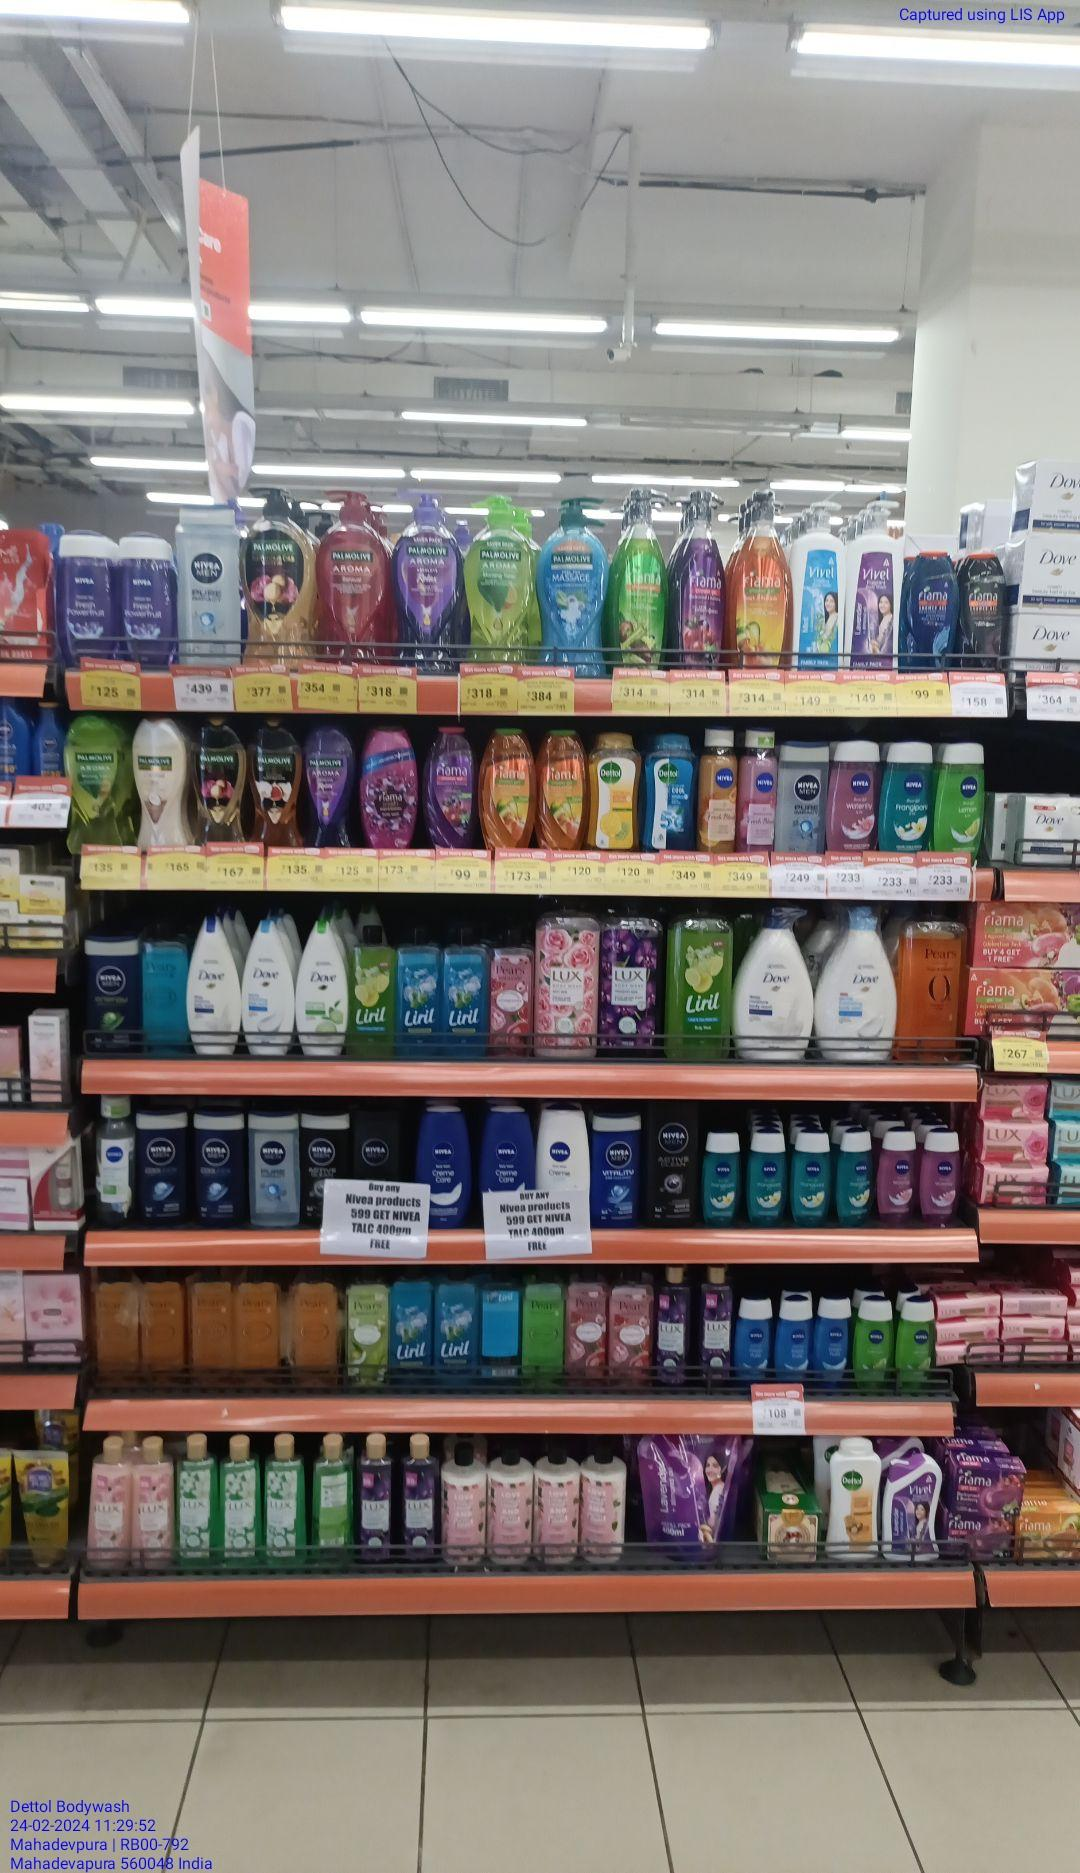Dettol_Bodywash_Cool: (644, 736, 699, 852)
Dettol_Bodywash_Refresh: (590, 732, 639, 850)
Dettol_Nourish_Body_Wash_250ML: (827, 1439, 878, 1560)
Dove_Deep_Moisture_Body_Wash_250ML: (186, 916, 240, 1055)
Dove_Gentle_Exfoliating_Body_Wash_250ML: (244, 918, 294, 1055)
Dove_Refreshing_Body_Wash_250ML: (298, 921, 347, 1054)
Fiama_Shower_Gel_Peach_and_Avocado_250ML: (481, 729, 532, 849), (537, 729, 582, 849)
Liril_Cooling_Mint_Body_Wash_250ML: (397, 927, 444, 1059), (445, 927, 486, 1059), (390, 1267, 433, 1379), (436, 1268, 480, 1378)
Liril_Lime_and_Tea_Tree_Oil_Body_Wash_250ML: (350, 927, 396, 1056)
Lux_Black_Orchid_Scent_and_Juniper_Oil_Body_Wash_245ML: (696, 1266, 733, 1378), (656, 1266, 690, 1376)
Lux_Body_Wash_Skin_Detox_Freesia_Scent_and_Alove_Vera_245ML: (174, 1438, 221, 1566), (265, 1438, 307, 1567), (397, 1438, 440, 1562), (359, 1438, 397, 1566), (225, 1438, 264, 1564)
Nivea_Shower_Gel_Frangipani_and_Oil_250ML: (881, 745, 933, 850), (743, 1132, 787, 1226), (791, 1133, 831, 1226), (702, 1135, 741, 1226), (836, 1133, 873, 1225)
Nivea_Shower_Gel_Lemon_and_Oil_250ML: (933, 744, 985, 853), (894, 1301, 936, 1379), (856, 1301, 891, 1382)
Nivea_Shower_Gel_Waterlily_and_Oil_250ML: (828, 742, 879, 850), (921, 1131, 960, 1226), (877, 1129, 915, 1226)
Palmolive_Aroma_Morning_Tonic_Shower_Gel_250ML: (64, 722, 127, 846)
Palmolive_Aroma_Relax_250ML: (305, 729, 354, 850)
Palmolive_Coconut_Joy_Exfoliating_Body_Wash_250ML: (129, 722, 193, 846)
Palmolive_Luminous_Oils_Invigorating_Macadamia_Oil_With_Peony_250ML: (197, 723, 246, 843)
Palmolive_Luminous_Oils_With_White_Orchid_Shower_Gel_250ML: (247, 727, 302, 848)
Pears_Naturale_Aloe_Vera_Body_Wash_250ML: (346, 1267, 387, 1380)
Pears_Pure_Glycerin_and_Lemon_Flower_Extracts_Body_Wash_250ML: (523, 1270, 563, 1374)
